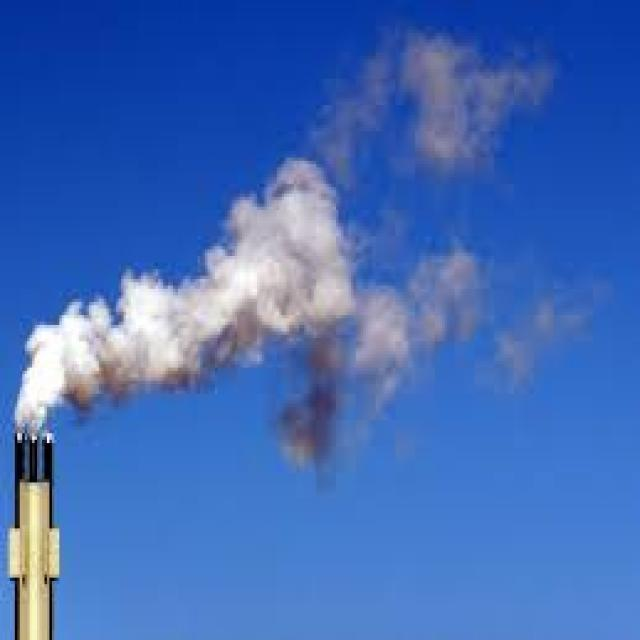Smoke: (12, 21, 614, 494)
